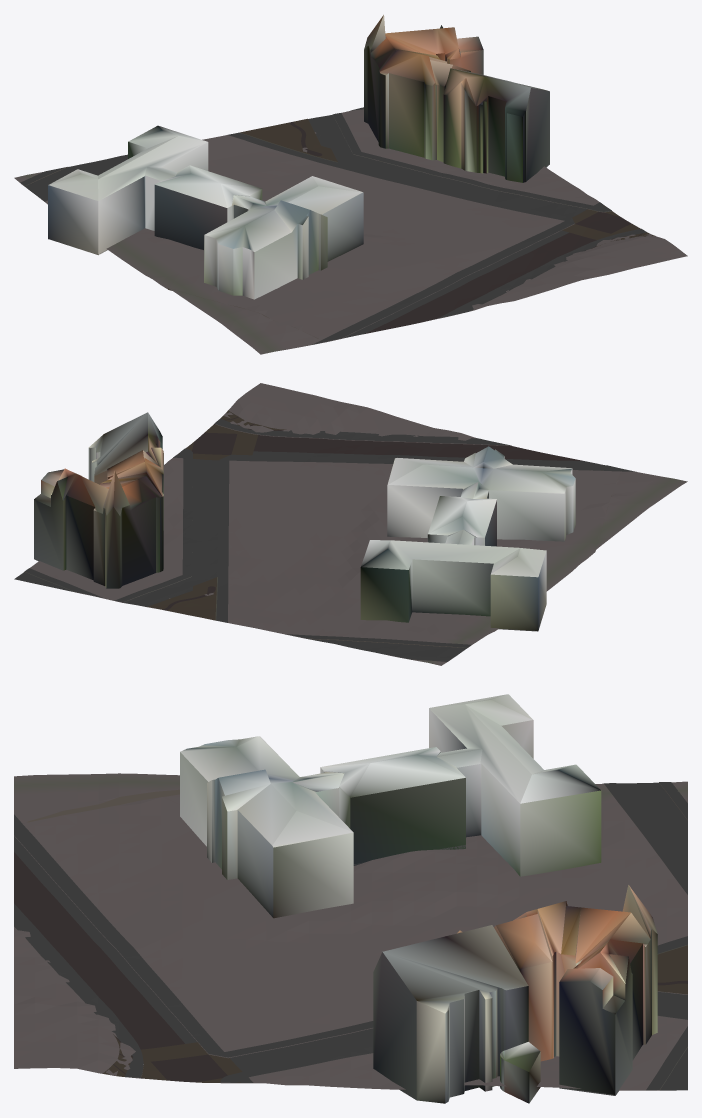
The picture shows the model from 3 angles, top to bottom: view 1: azimuth 30°, elevation 25°; view 2: azimuth 150°, elevation 25°; view 3: azimuth 270°, elevation 25°; orthographic projection. The views are drawn at different scales.
Visible parts, largest first — view 1: c_p00_p08; view 2: c_p00_p08; view 3: c_p00_p08.
Part boxes in pixels (<box>): c_p00_p08: <box>14,15,687,354</box>; c_p00_p08: <box>14,383,687,665</box>; c_p00_p08: <box>14,694,687,1103</box>.
Size of the model in its own units: 142 by 32.92 by 128.
